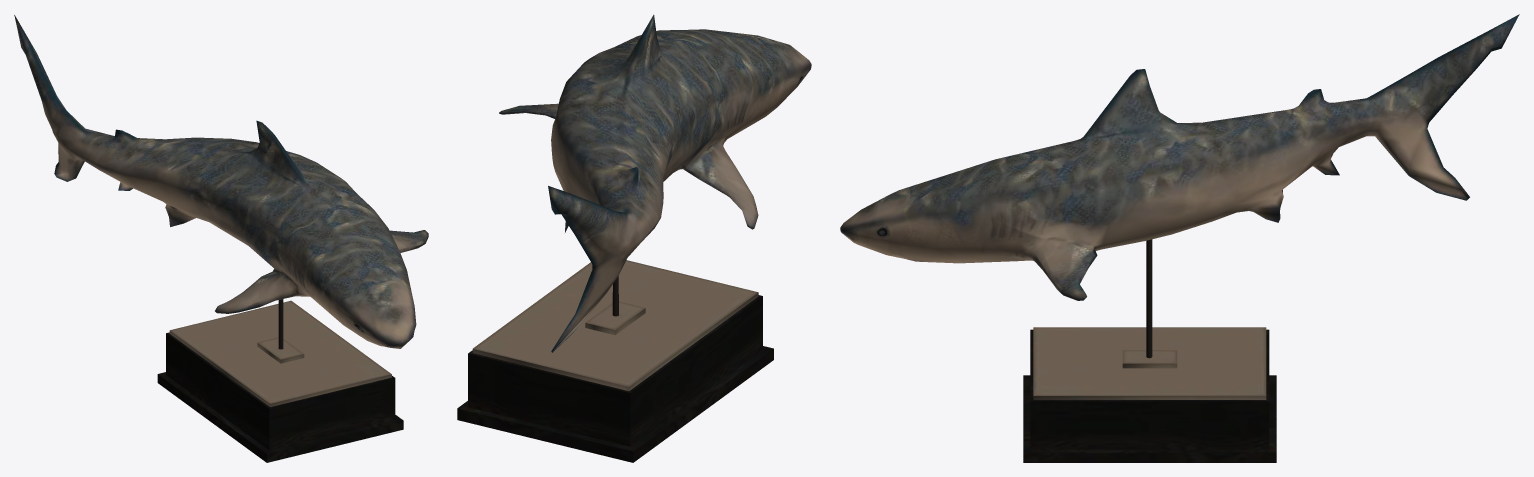
Rendered from bronze_shark_statue.glb.
The picture shows the model from 3 angles, left to right: view 1: azimuth 30°, elevation 25°; view 2: azimuth 150°, elevation 25°; view 3: azimuth 270°, elevation 25°; orthographic projection. The views are drawn at different scales.
Visible parts, largest first — view 1: bronze_shark_statue; view 2: bronze_shark_statue; view 3: bronze_shark_statue.
Part boxes in pixels (x1=…): bronze_shark_statue: x1=14, y1=15, x2=428, y2=462; bronze_shark_statue: x1=457, y1=14, x2=811, y2=462; bronze_shark_statue: x1=840, y1=14, x2=1519, y2=462.
Size of the model in its own units: 0.3518 by 0.4311 by 0.7591.
1 material, 1 textured.
